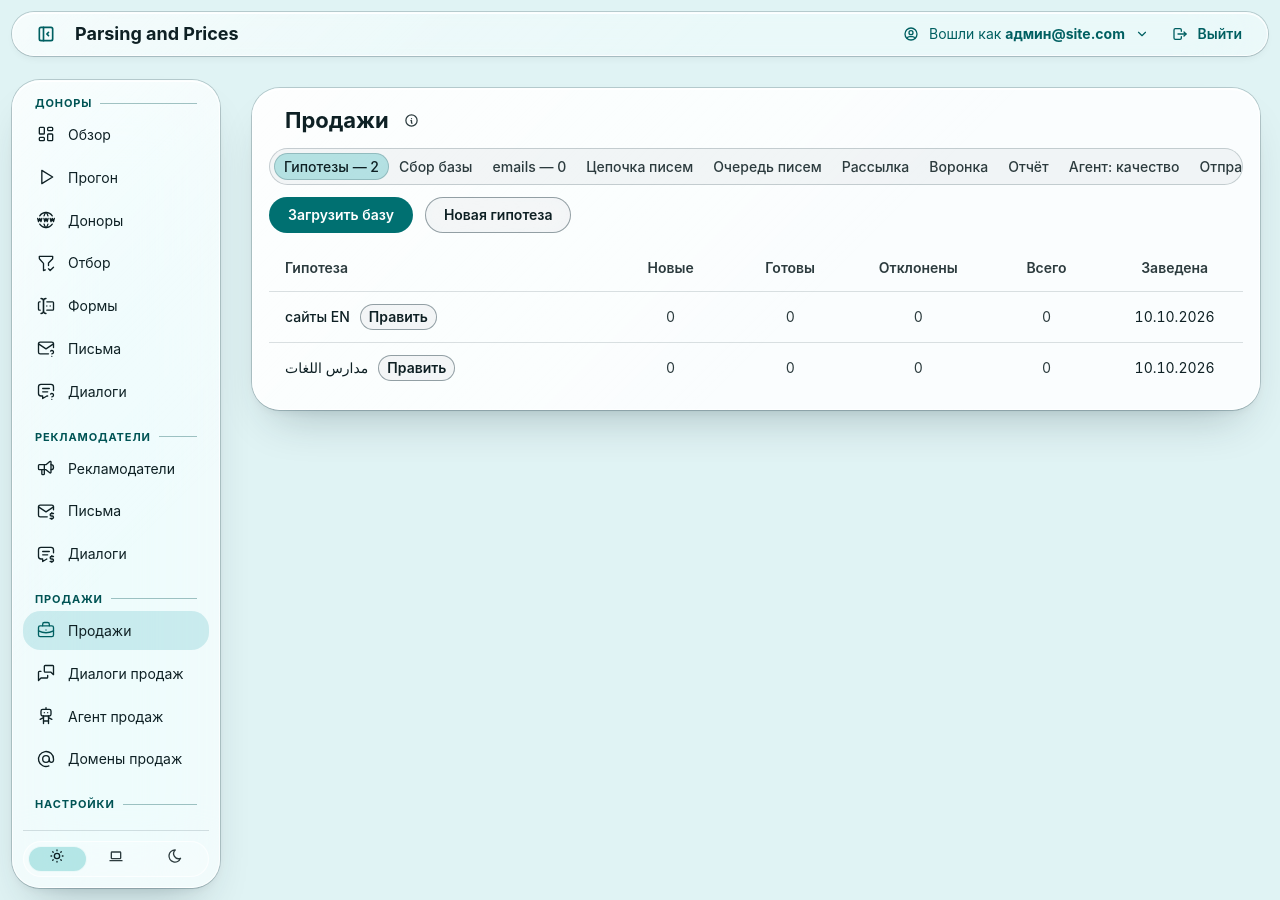
Scenario: удаление гипотезы: только пустую › пустая — удалена: окно закрыто, в списке её нет, уведомление с именем
Click the button with aria-label "Править гипотезу «сайты EN»".
click(398, 317)  # box 360,304 -> 437,330
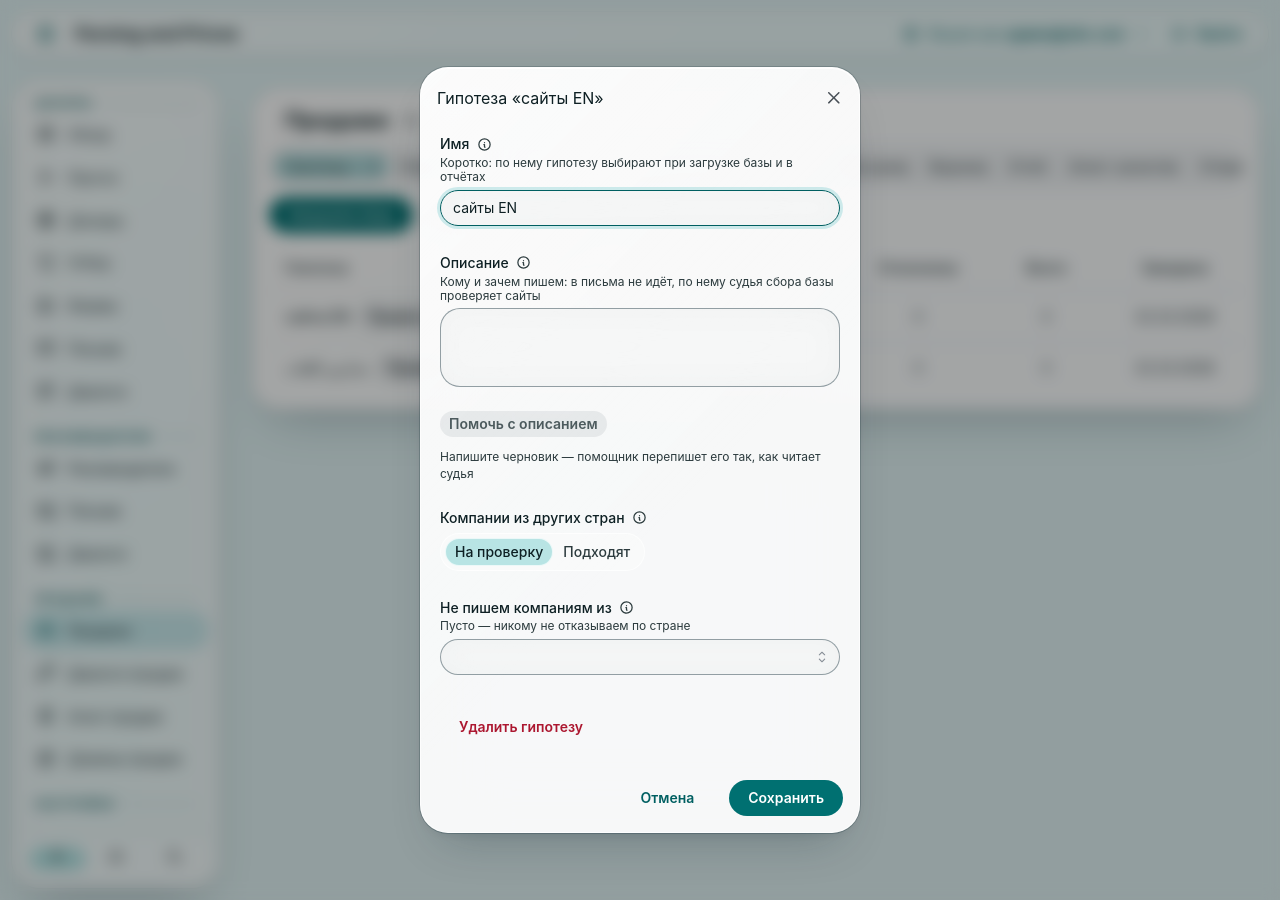
Click the button "Удалить гипотезу".
click(521, 727)  # box 440,709 -> 602,745
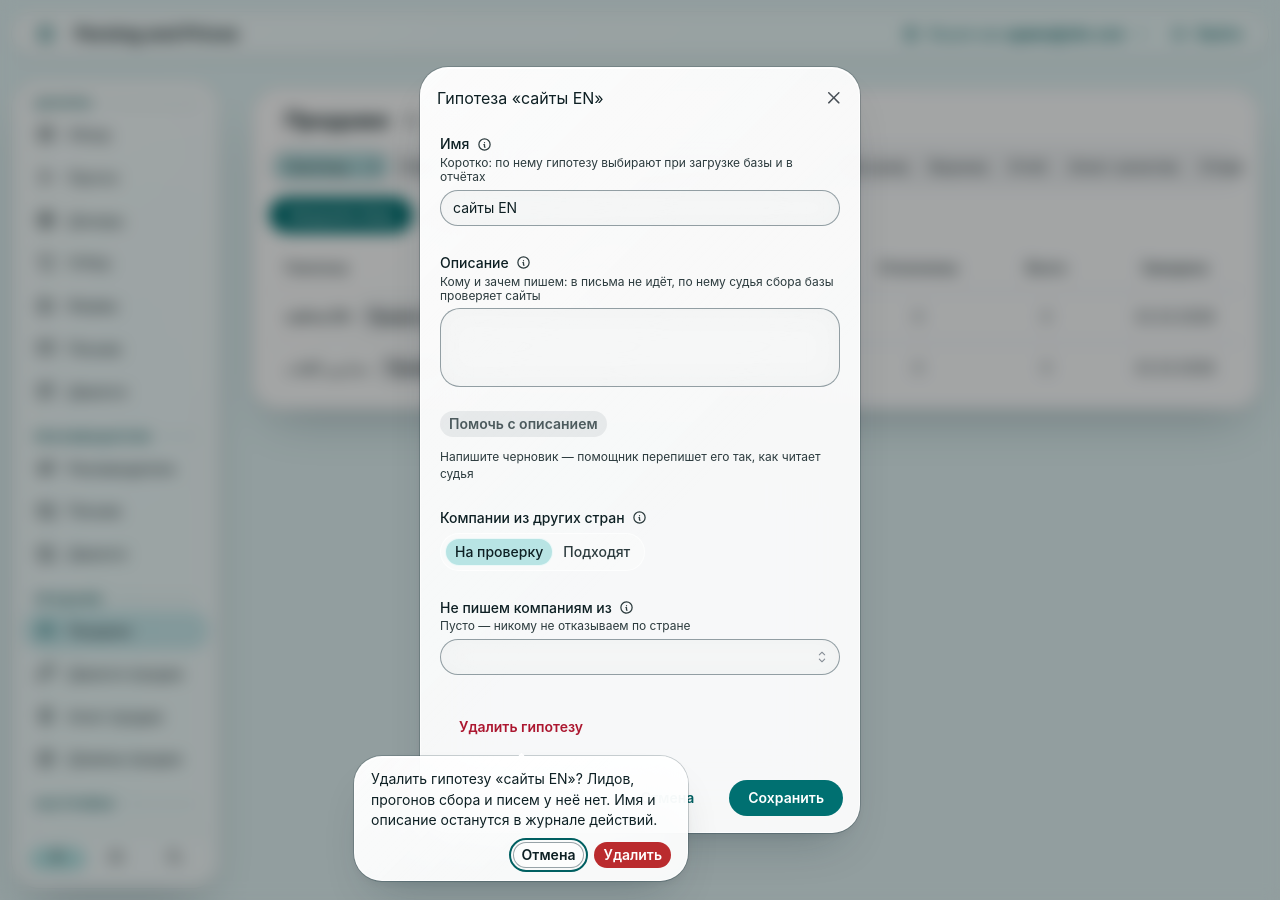
Click the button "Удалить".
click(633, 855)  # box 594,842 -> 671,868
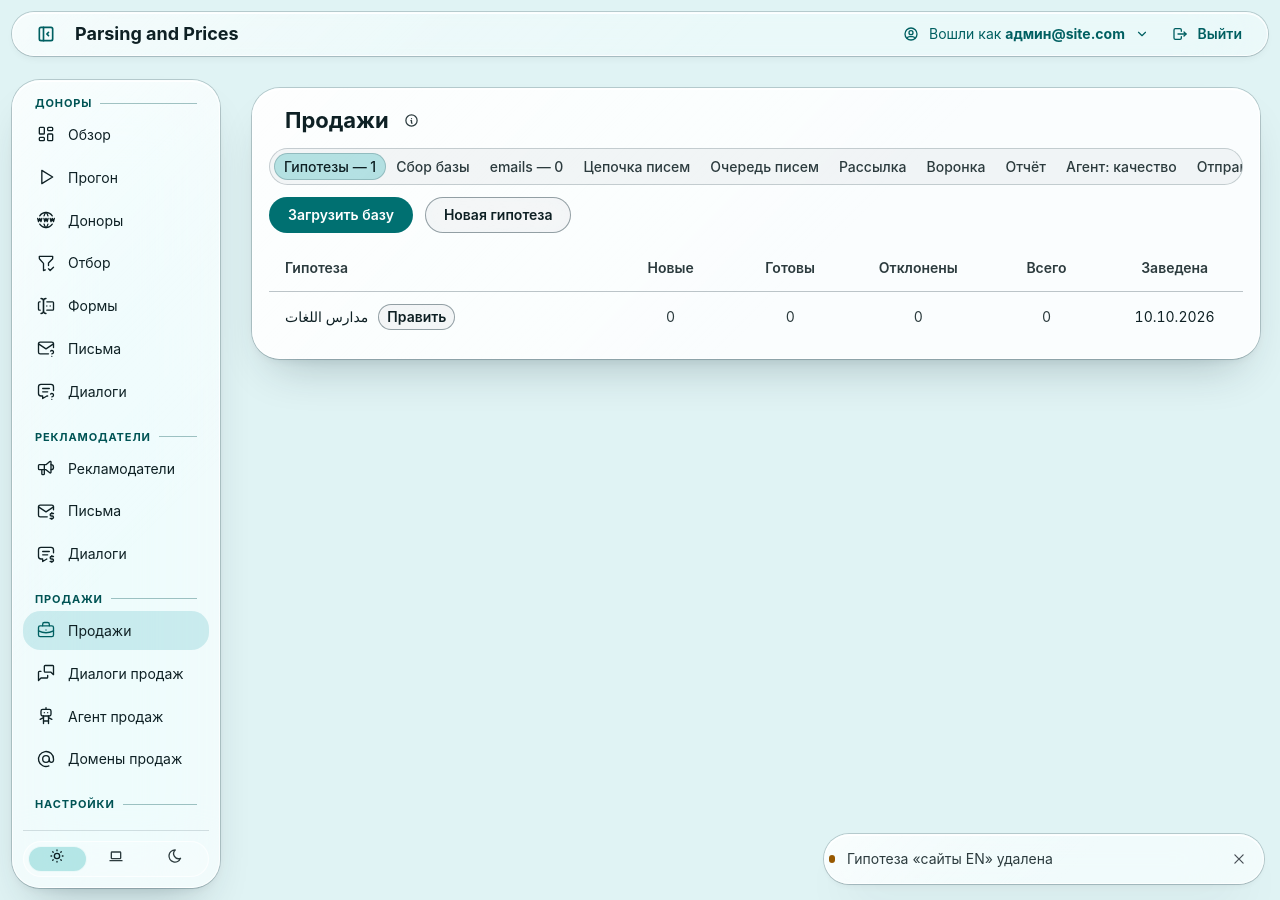
Expected: the button with aria-label "Править гипотезу «مدارس اللغات»" is shown, 378,304 -> 455,330
Expected: the dialog is gone
Expected: the text "Гипотеза «сайты EN» удалена" is shown, 847,850 -> 1053,867
